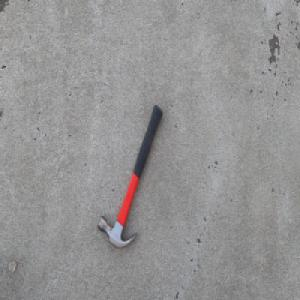Hammer: (96, 103, 163, 250)
